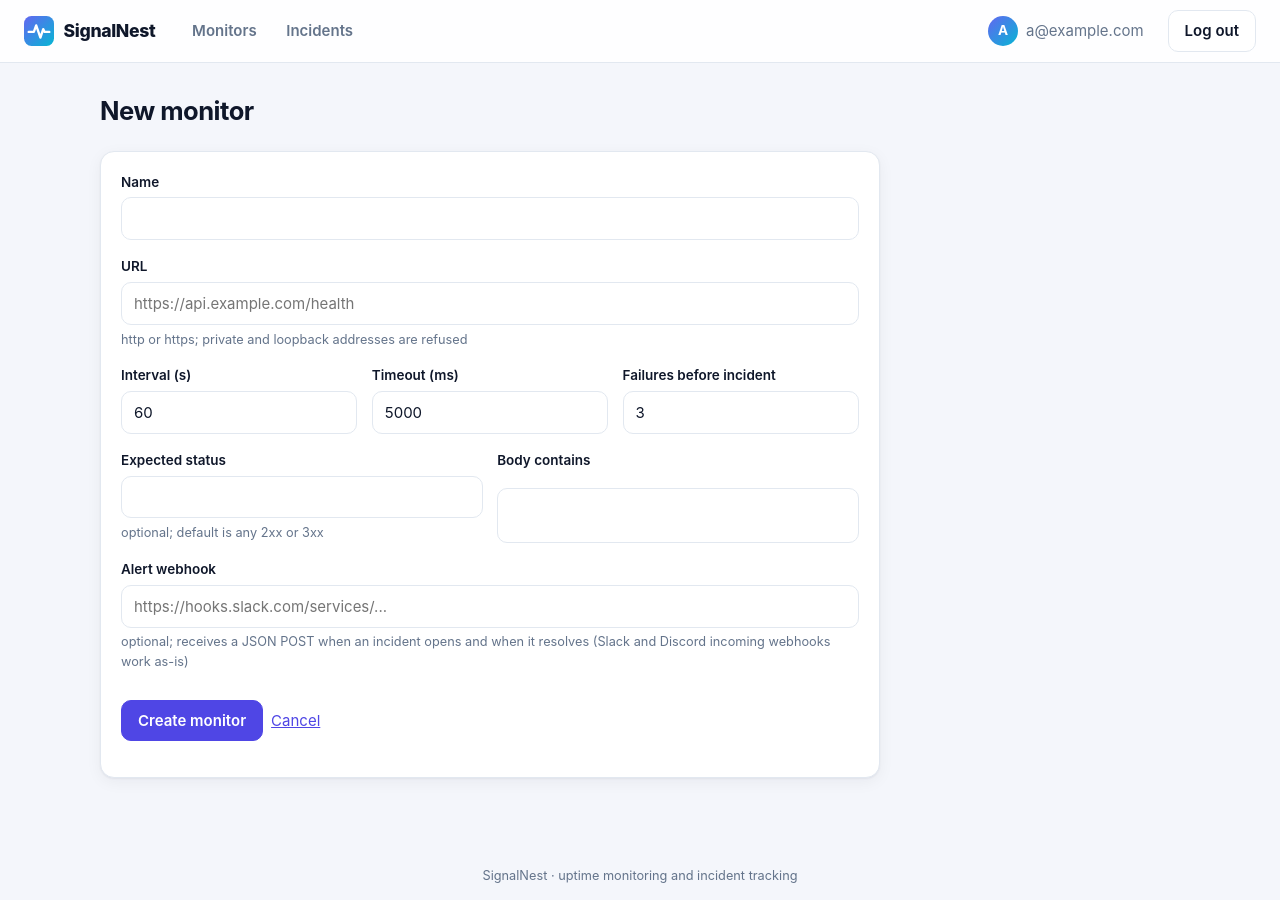
Test: app › shows the server's reason when a monitor is rejected
Type "ssh" into the field labelled "Name".
click(490, 219); type("ssh")  # box x1=121 y1=197 x2=859 y2=240
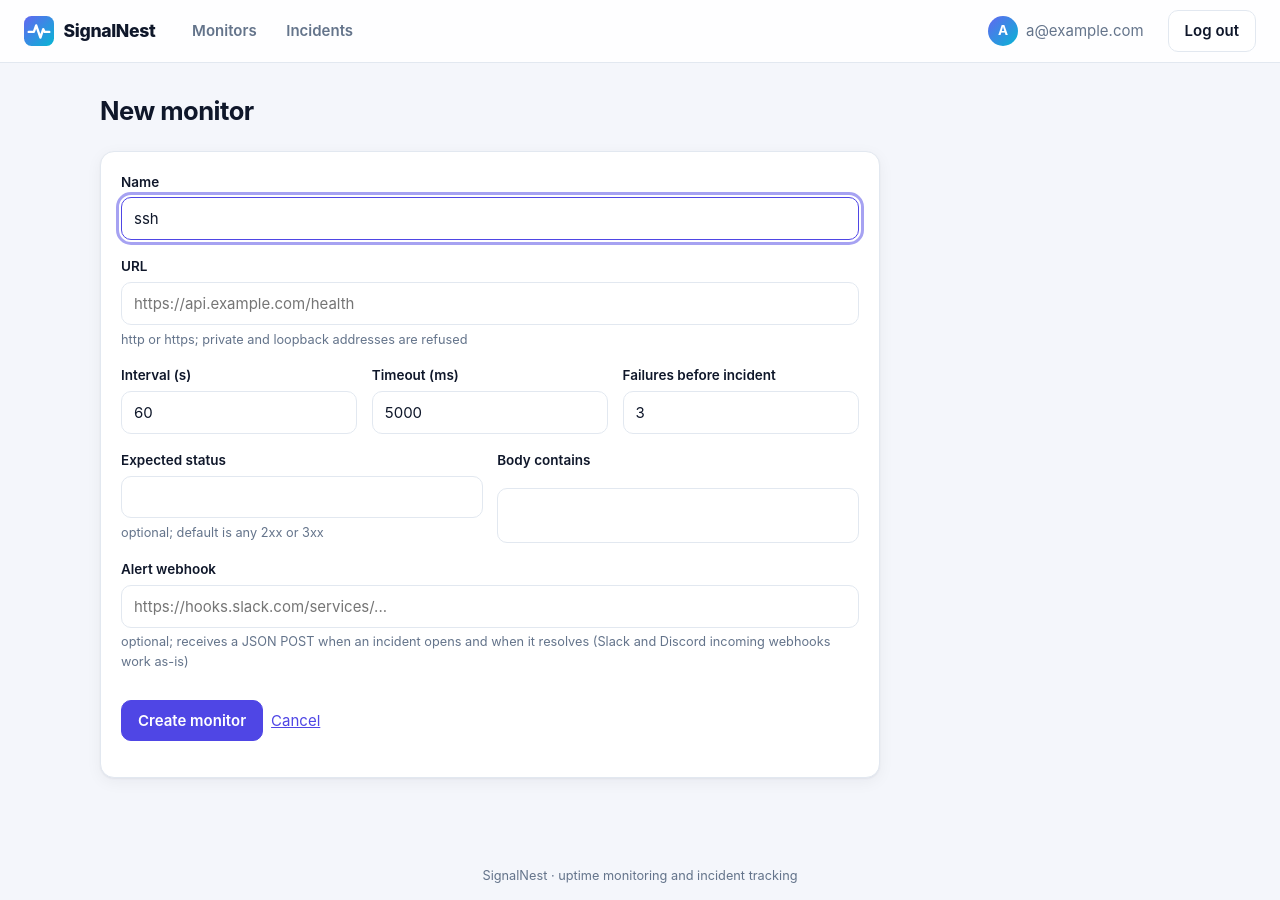
Type "http://example.com:22/" into the field labelled "URL".
click(490, 303); type("http://example.com:22/")  # box x1=121 y1=282 x2=859 y2=325
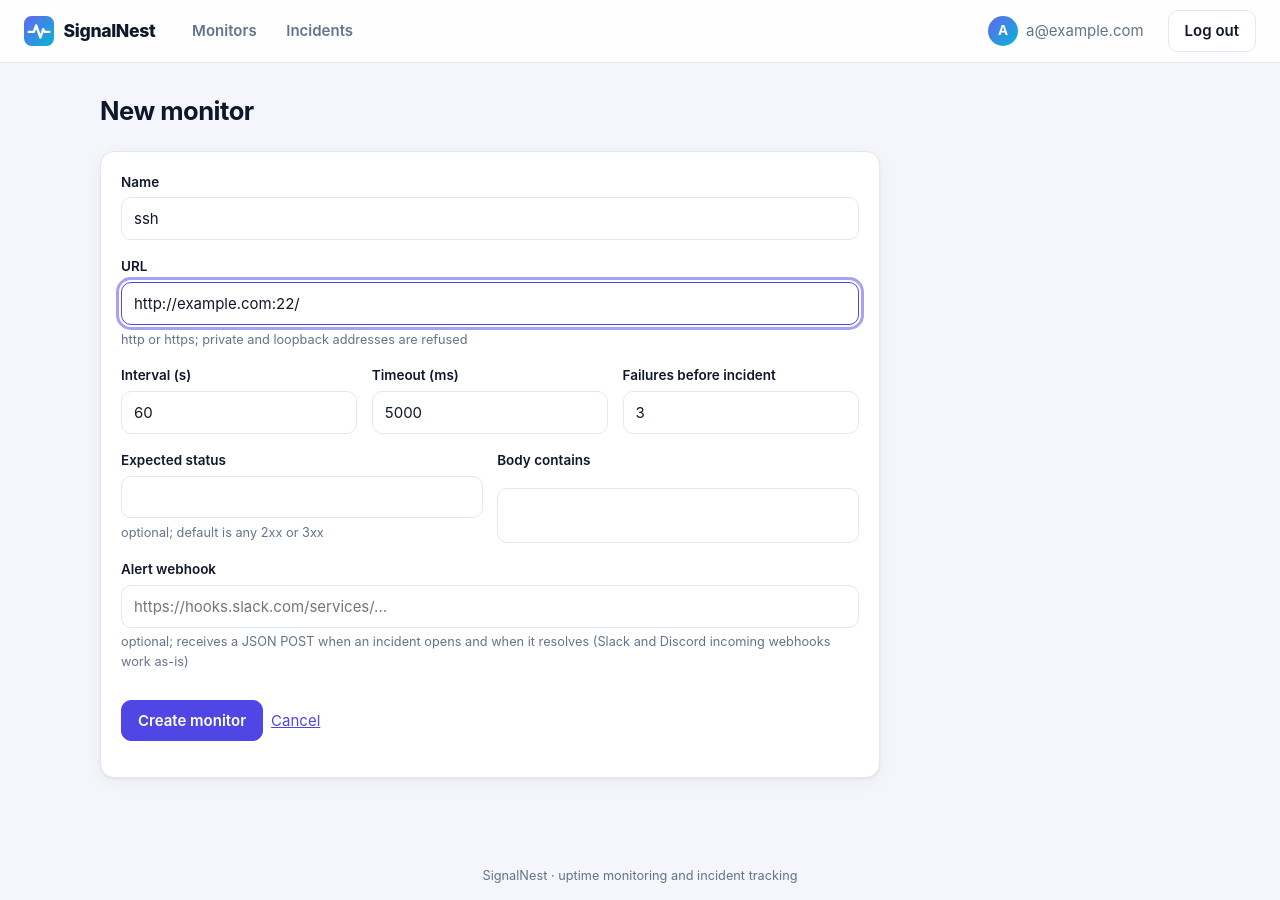
Click the button "Create monitor".
click(192, 721)  # box x1=121 y1=700 x2=263 y2=741
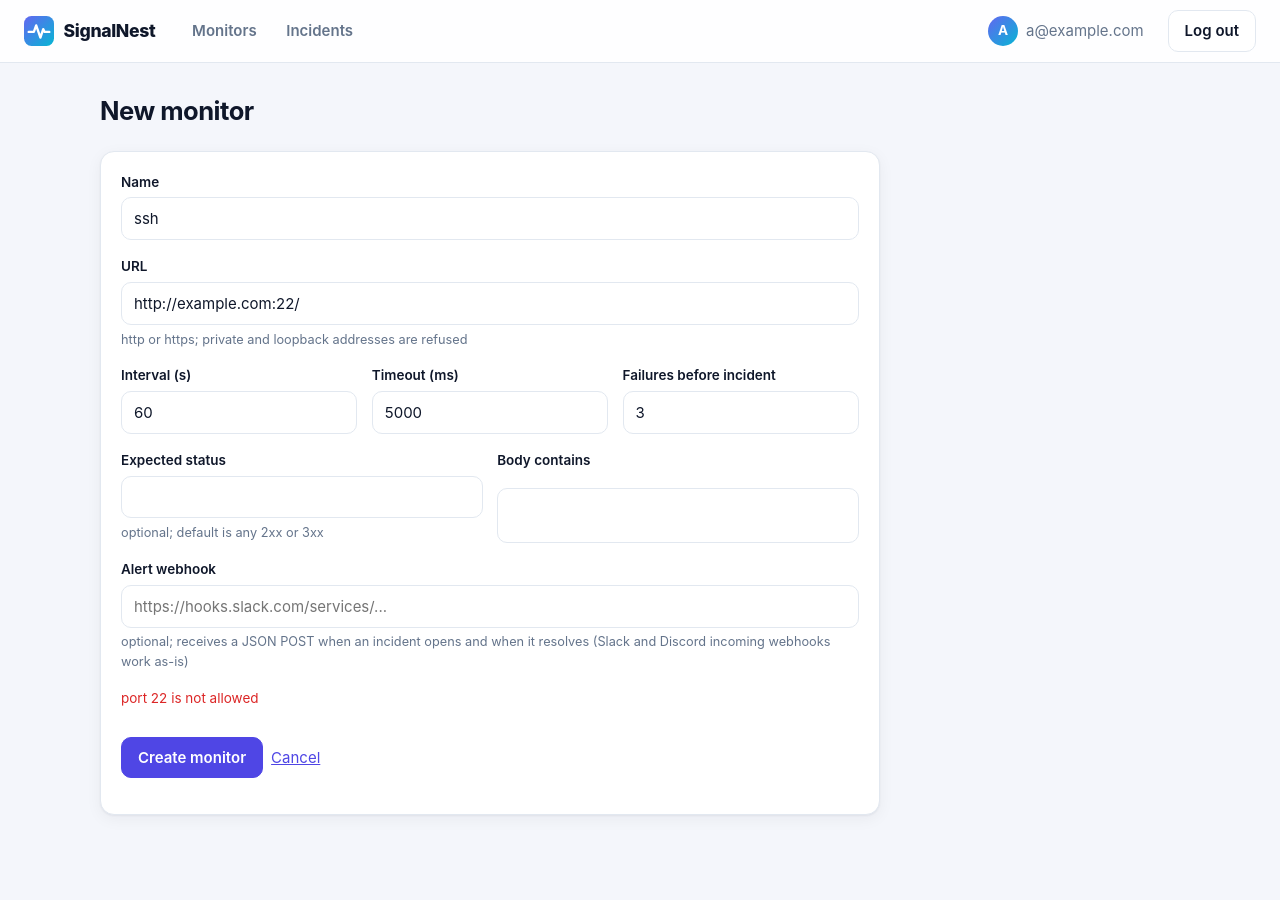
Expected: the message reads "port 22 is not allowed", x1=121 y1=690 x2=258 y2=706
